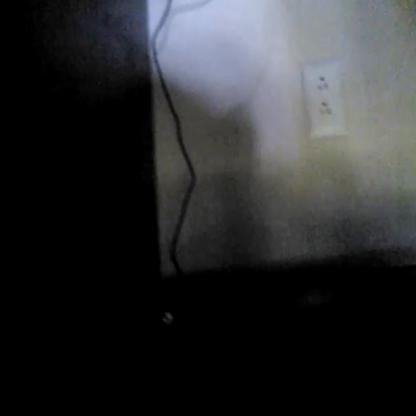OUTLET: (306, 59, 342, 136)
